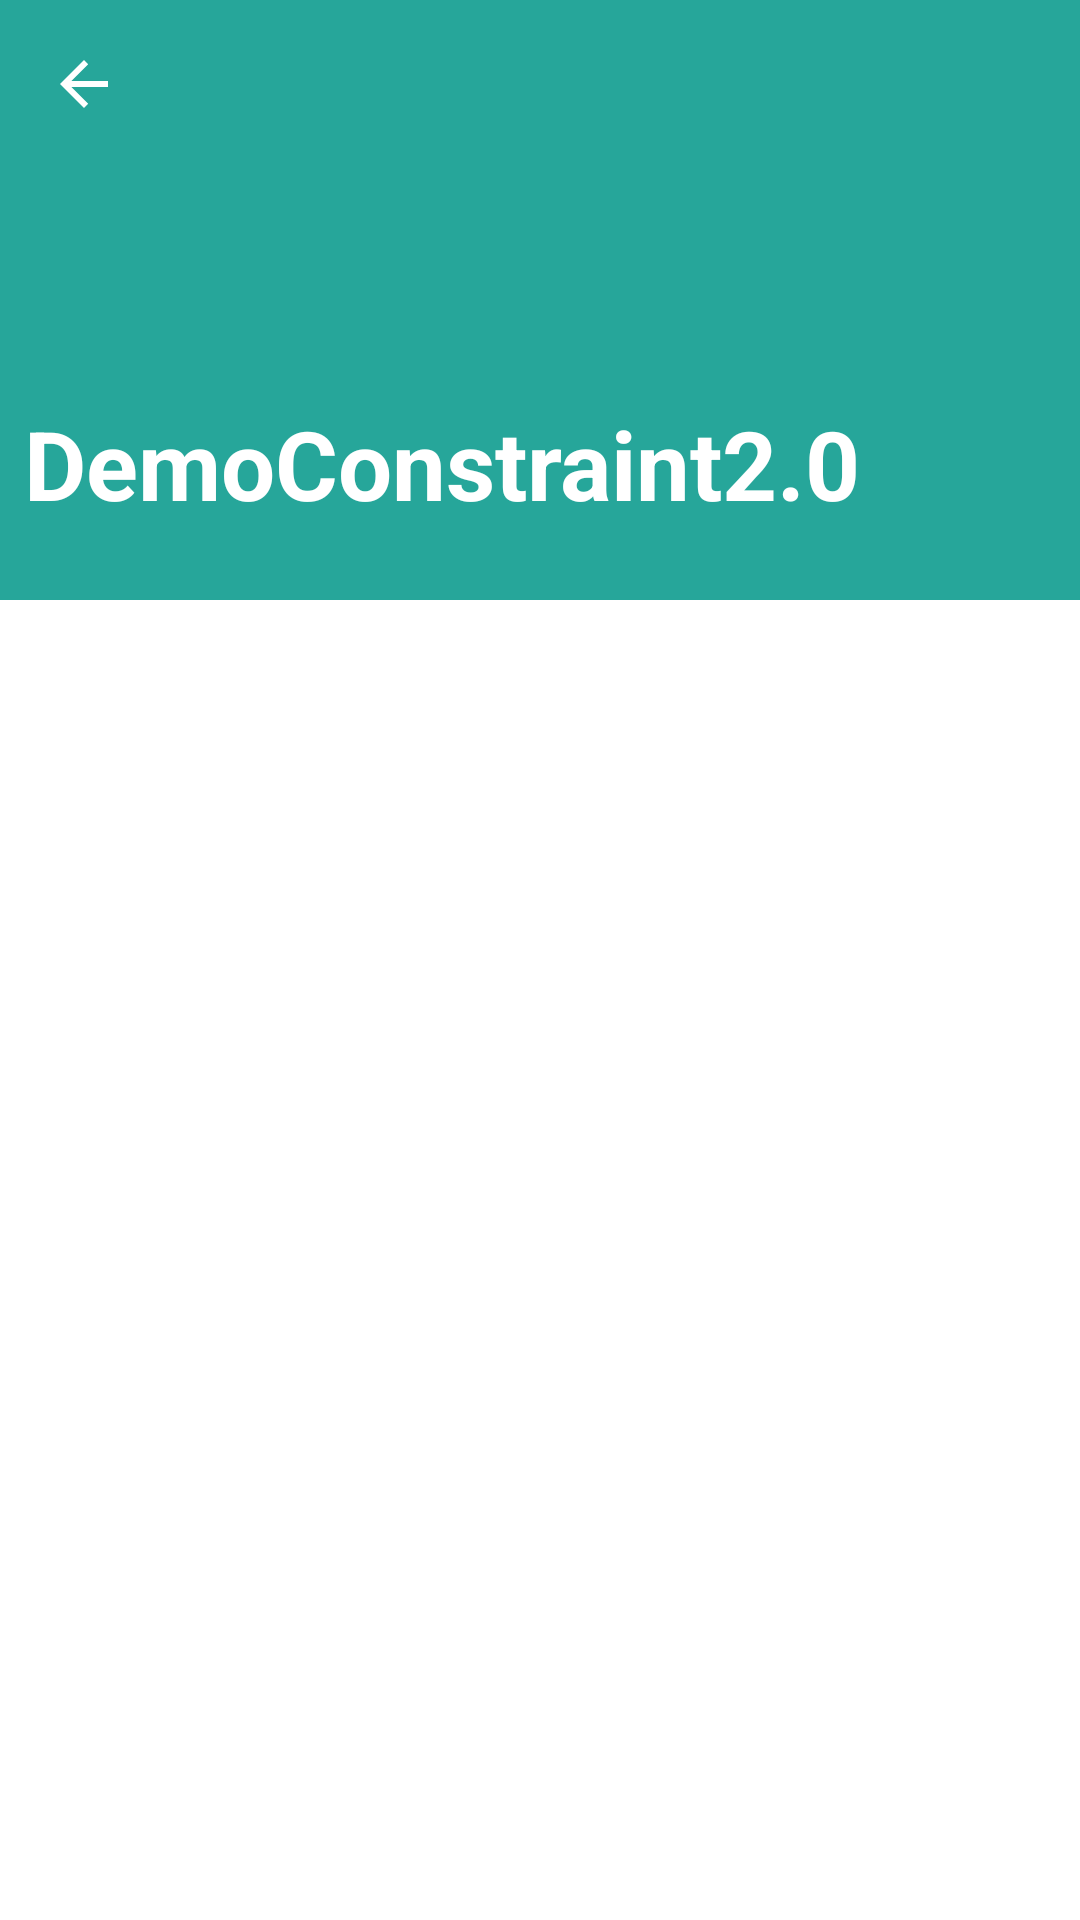

Screen size 1080px x 1920px. Icon name, then its center in pixels as [x,y]:
ab back: [84,84]
